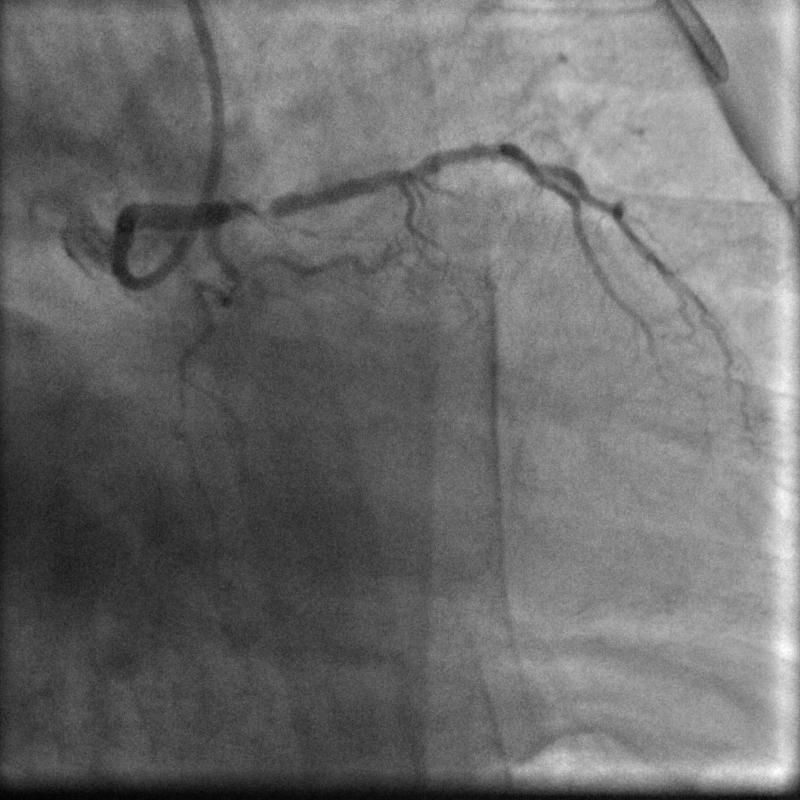Stenosis: (223, 191, 279, 227)
